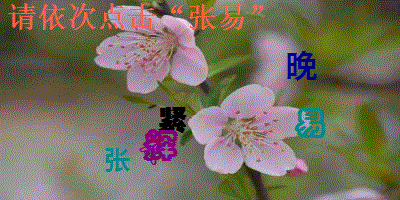result: (186, 1, 246, 33)
text: (139, 129, 180, 165), (284, 49, 318, 84), (294, 106, 328, 141), (157, 106, 189, 135), (102, 145, 132, 173)
